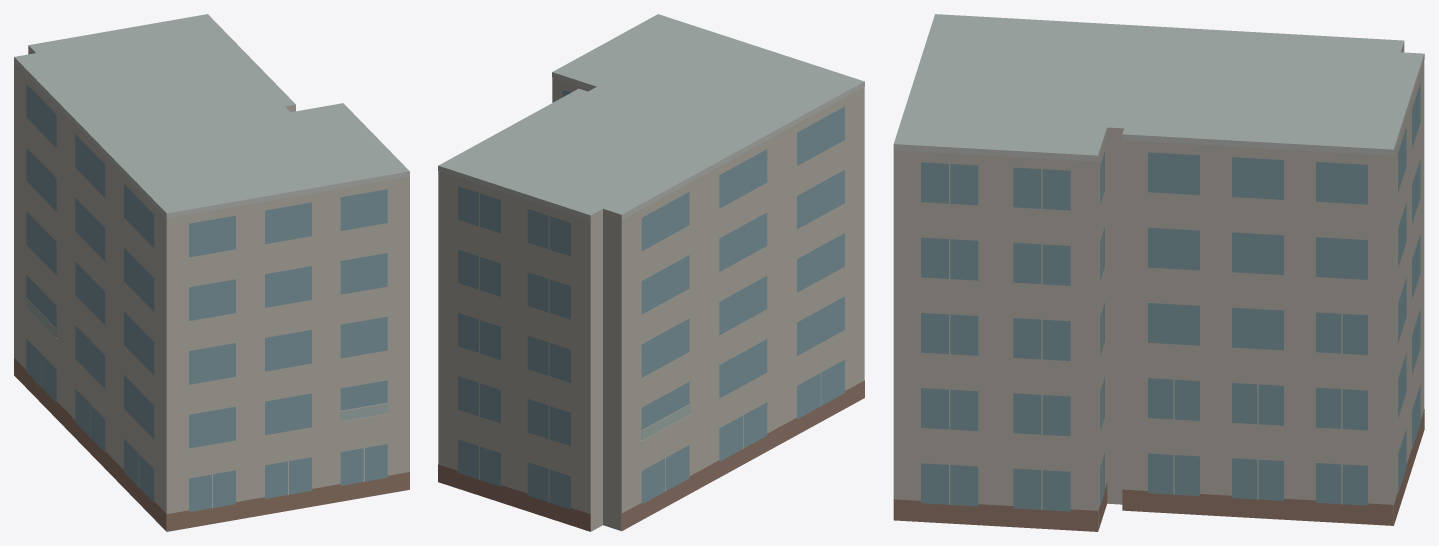
File: survey-upis-33004866.glb
3 views of the same model, side by side, from view 1: azimuth 30°, elevation 25°; view 2: azimuth 150°, elevation 25°; view 3: azimuth 270°, elevation 25° (orthographic). The views are drawn at different scales.
Parts seen in each view (by area): view 1: survey-upis-33004866.tmp; view 2: survey-upis-33004866.tmp; view 3: survey-upis-33004866.tmp.
Boxes of the visible parts, box(x1,y1,x2,y2) form: survey-upis-33004866.tmp: box(14, 14, 409, 531); survey-upis-33004866.tmp: box(438, 14, 864, 531); survey-upis-33004866.tmp: box(893, 14, 1424, 531).
Size of the model in its own units: 11.95 by 14.8 by 18.93.
